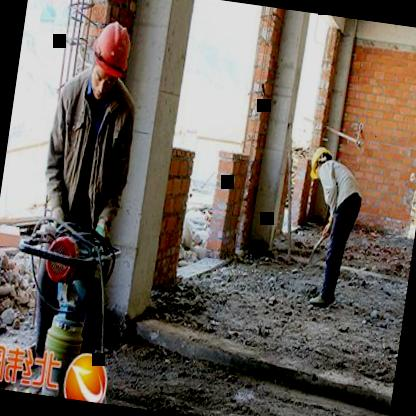helmet: (84, 16, 137, 102), (304, 142, 335, 185)
